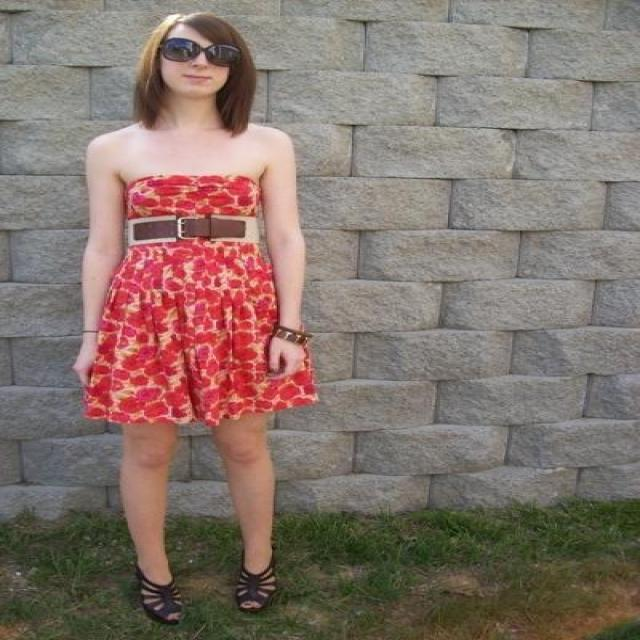dress: (74, 173, 315, 424)
shoe: (226, 566, 274, 600)
sunglass: (153, 27, 210, 63)
